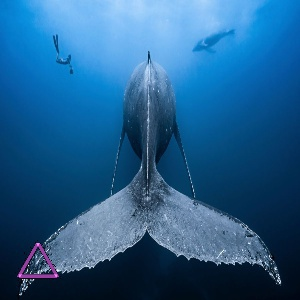triangle: (15, 240, 61, 280)
